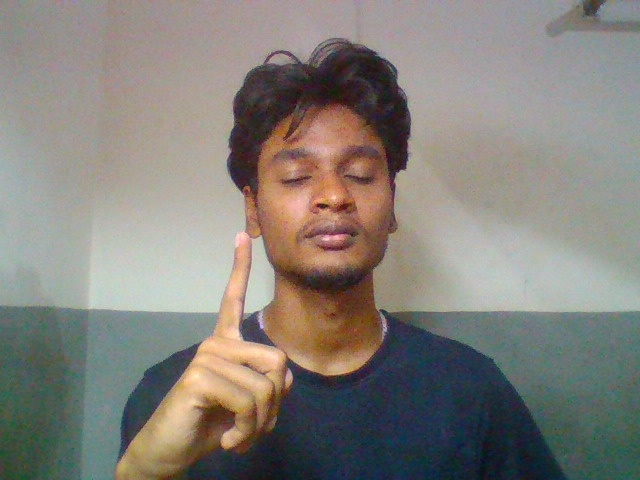I: (122, 215, 324, 480)
